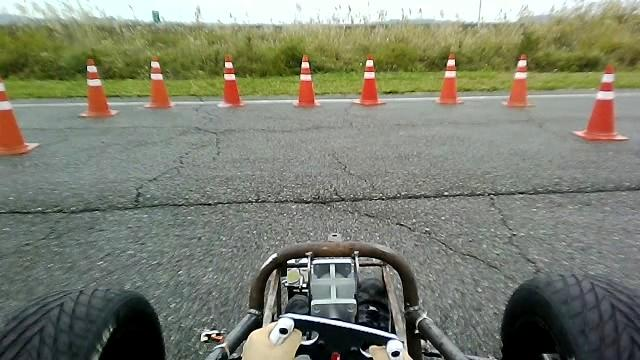red cone: (571, 63, 629, 141), (78, 57, 118, 118), (501, 53, 535, 108), (352, 53, 386, 105), (143, 55, 174, 108), (435, 51, 464, 104), (217, 54, 245, 107), (293, 53, 320, 107)
